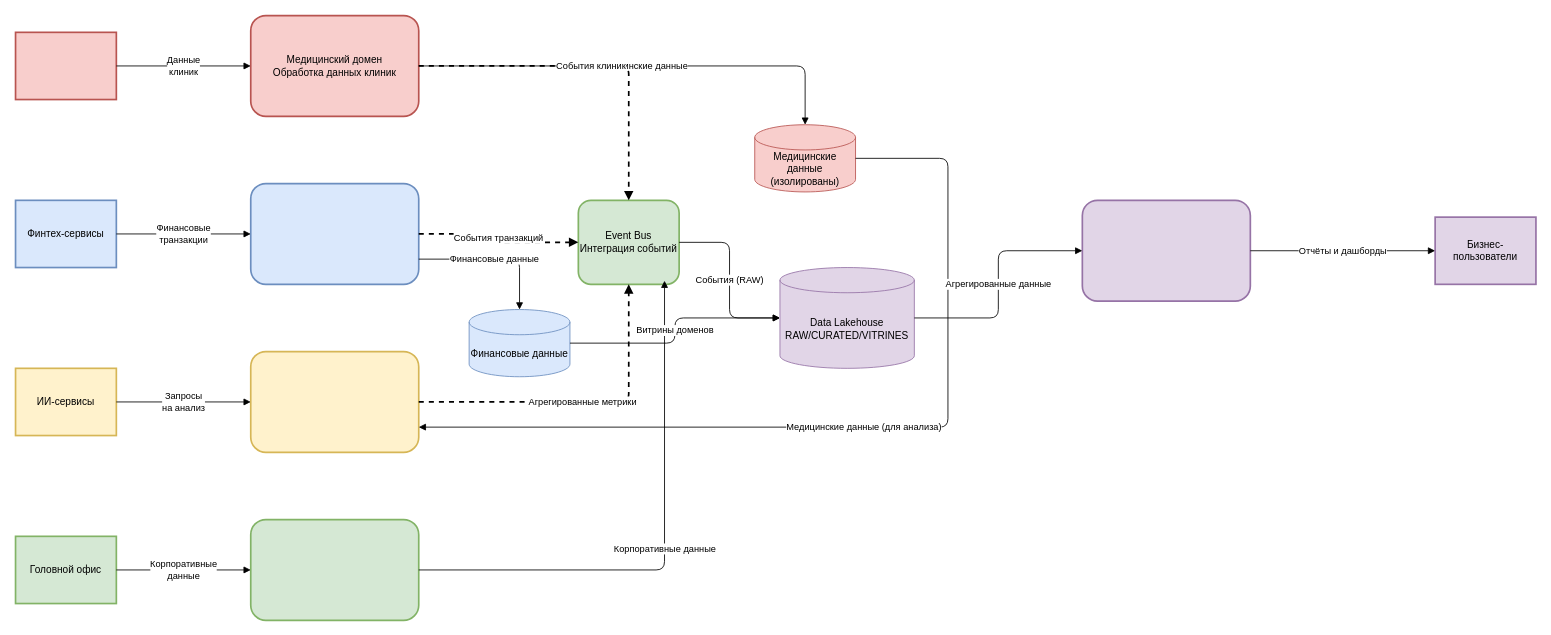
Some shapes in this 1551 by 635 pixel diagram are drawn without their labels. The centre of each missing label's shape, as x and y in pixels:
"AI домен Обработка медицинских данных" belongs at pixel 334 401.
"Аналитический домен Витрина данных, BI" belongs at pixel 1166 250.
"Клиники" belongs at pixel 65 65.
"Корпоративный домен HR, инвентаризация, отчётность" belongs at pixel 334 569.
"Финтех домен Банковские операции" belongs at pixel 334 233.
